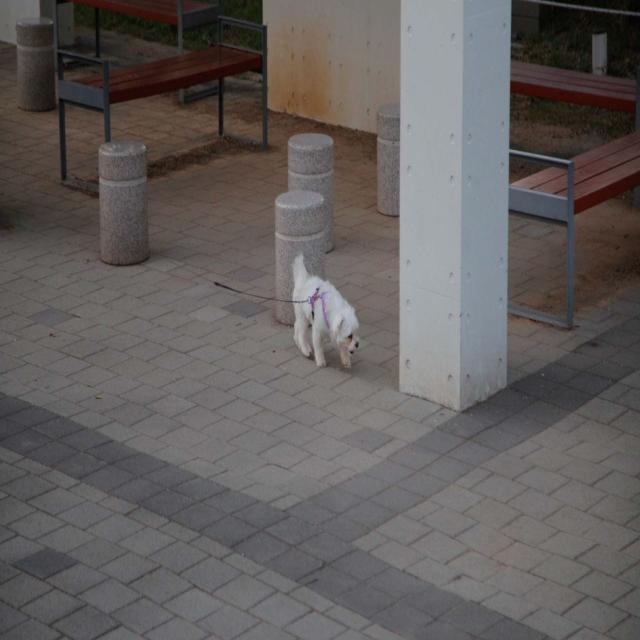Dog: (292, 250, 361, 370)
